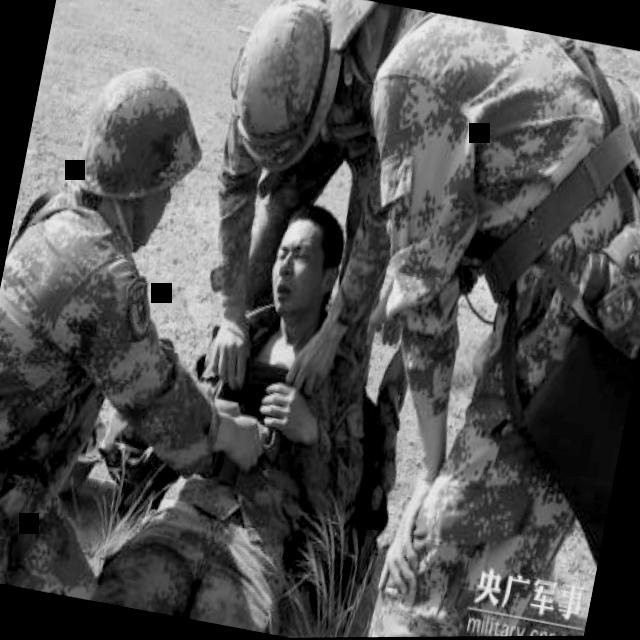Fall-Detected: (81, 155, 422, 640)
